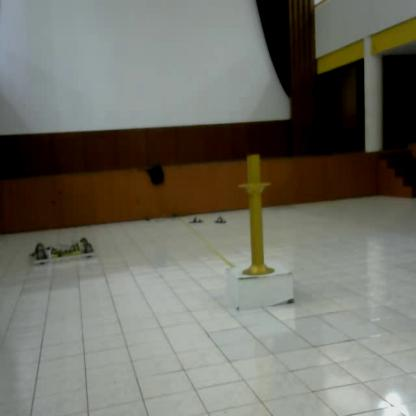pole: (236, 152, 284, 282)
